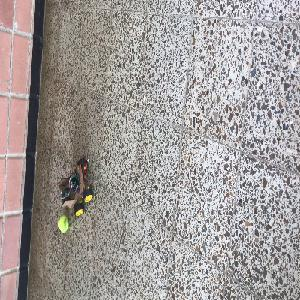Ball: (58, 215, 68, 232)
Robot: (58, 157, 92, 216)
